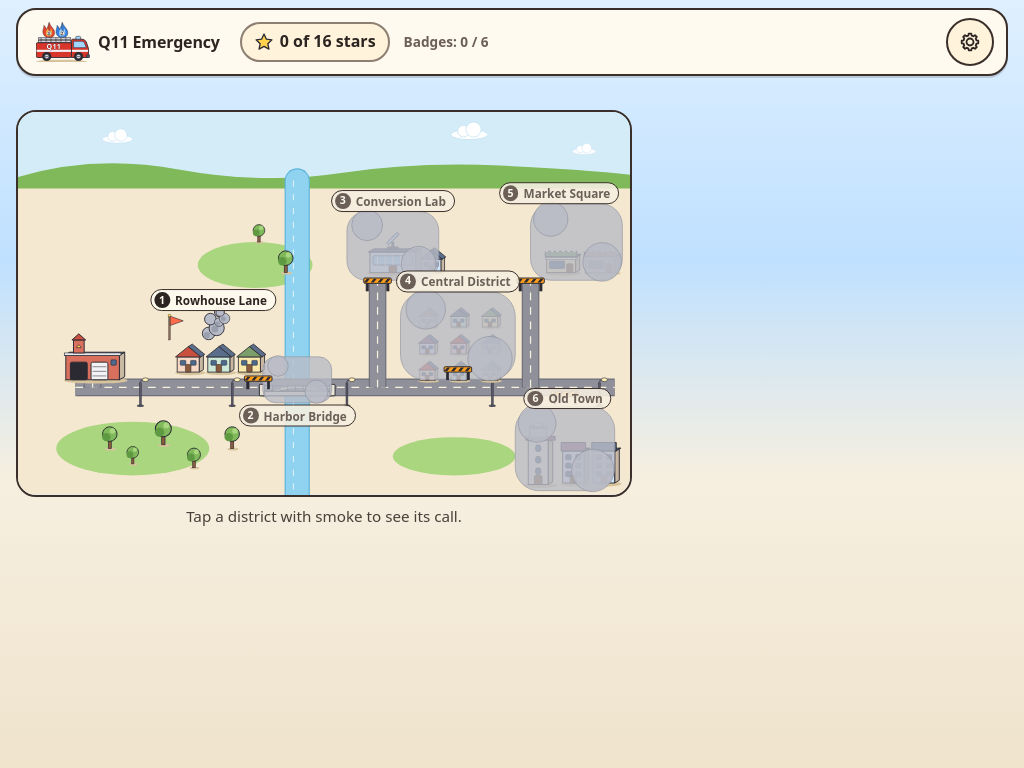
Test: CityScreen — dispatch travel › Skip ends the drive immediately with exactly one SELECT_MISSION
Step 1. Click the button with test id "mission-1" → (213, 345), box [163, 311, 263, 380]
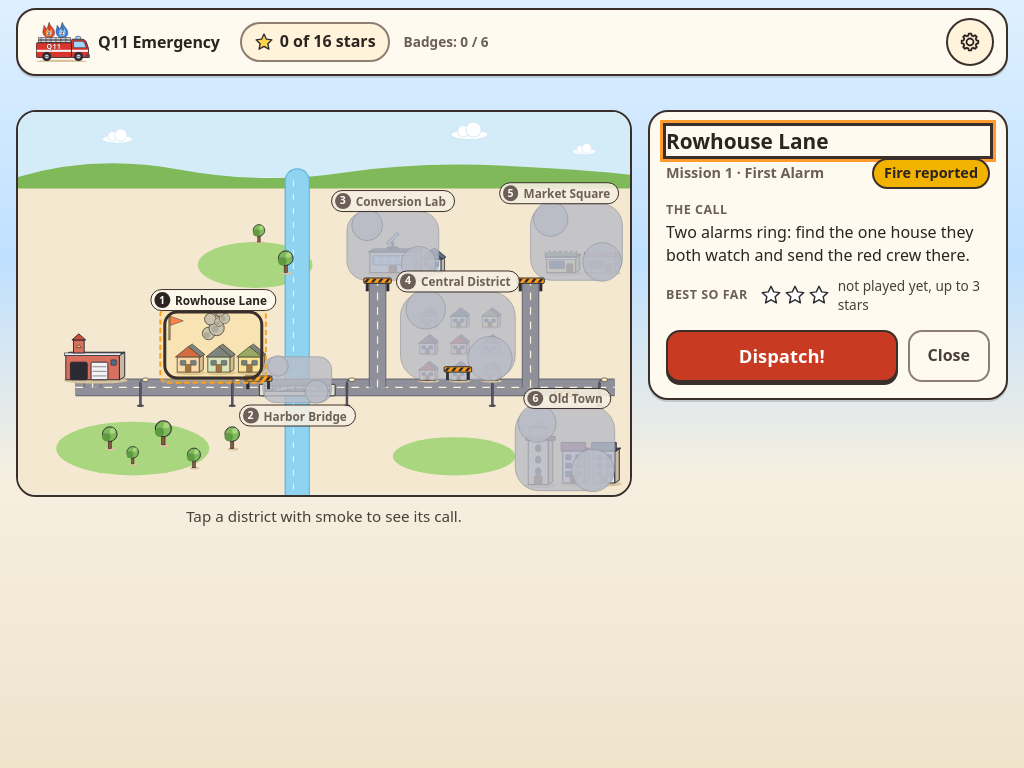
Step 2. Click the button with test id "dispatch-go" → (782, 356), box [666, 330, 898, 382]
Wait 100 ms
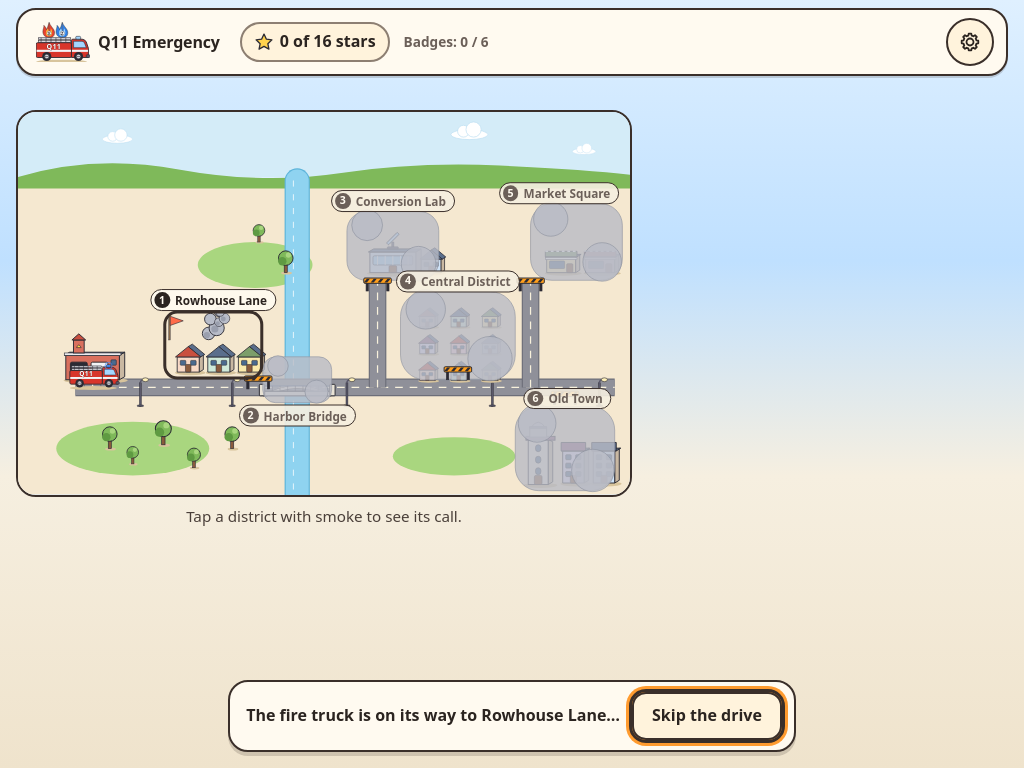
Step 3. Click the button with test id "travel-skip" → (707, 716), box [632, 692, 782, 740]
Wait 3000 ms
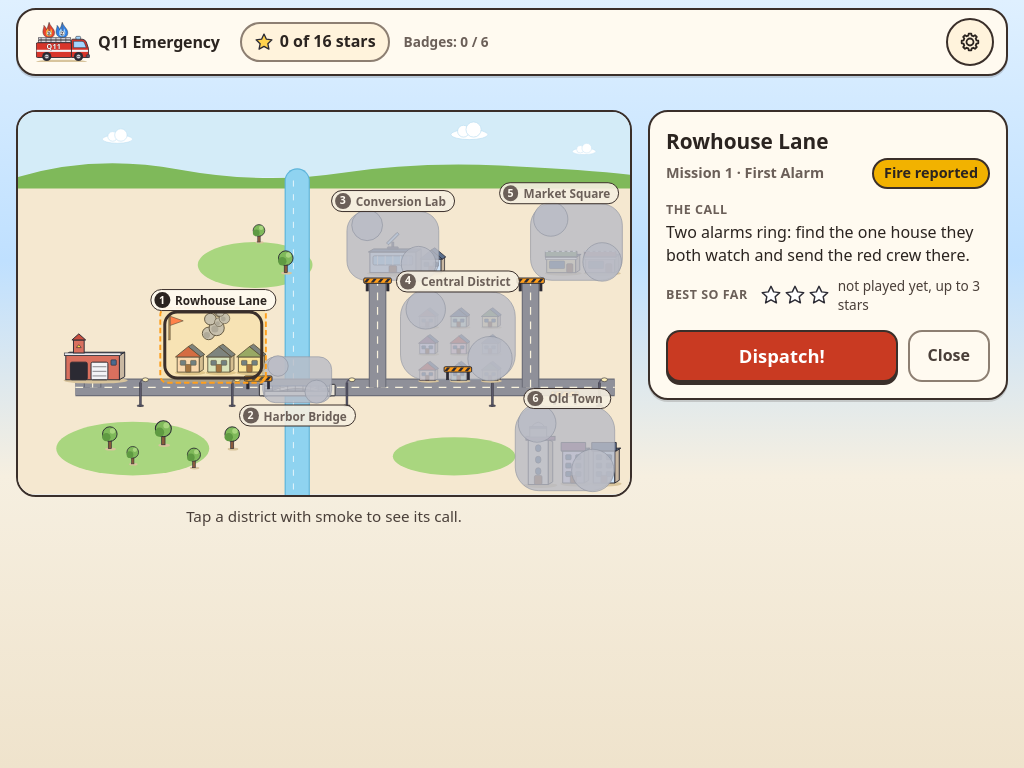
Now the element with test id "travel-overlay" is gone
